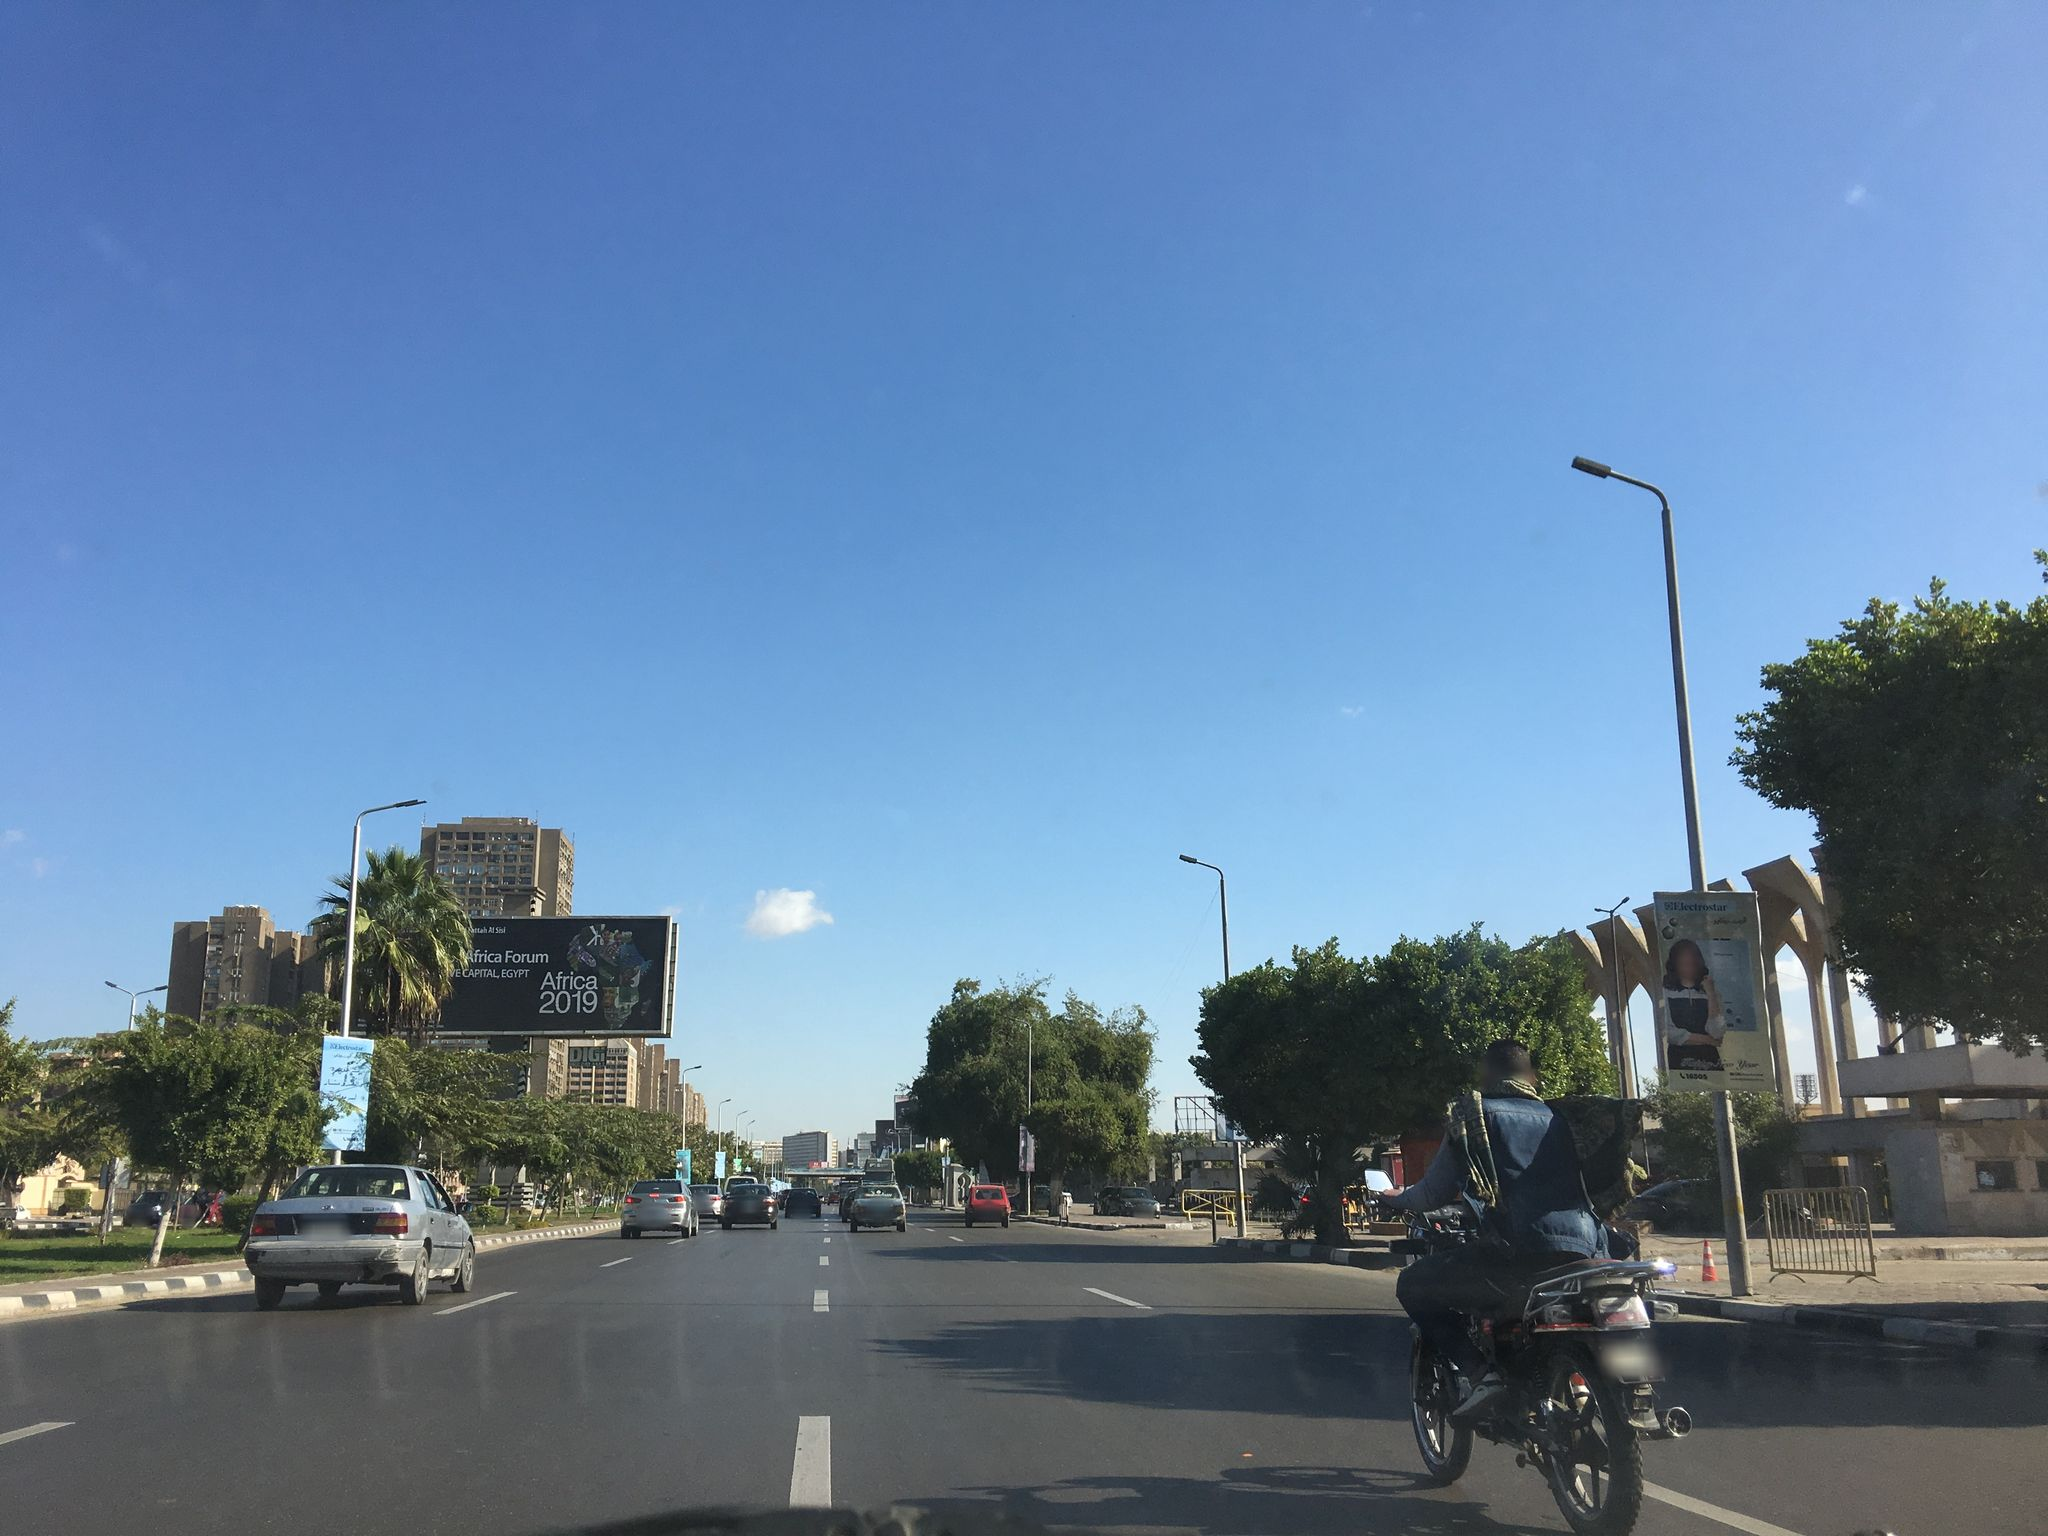car: (244, 1163, 476, 1305), (619, 1179, 698, 1238), (848, 1183, 906, 1233), (719, 1183, 779, 1229), (1092, 1186, 1161, 1220), (961, 1184, 1011, 1228), (123, 1189, 168, 1228), (687, 1183, 722, 1221), (784, 1187, 822, 1217), (722, 1175, 758, 1199), (842, 1192, 855, 1221)
motorcycle: (1351, 1162, 1695, 1531)
truck: (837, 1176, 860, 1215)
